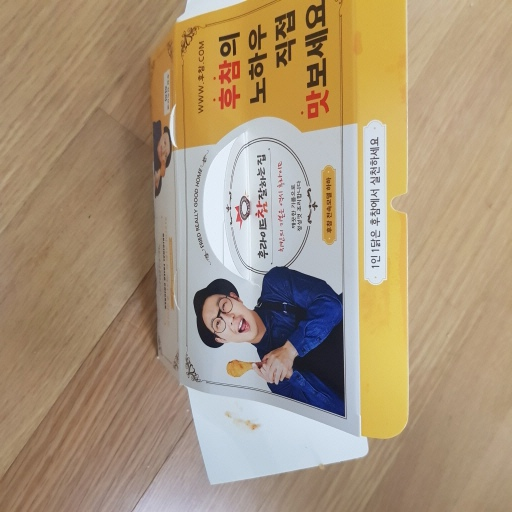Paper_0: (143, 2, 426, 486)
